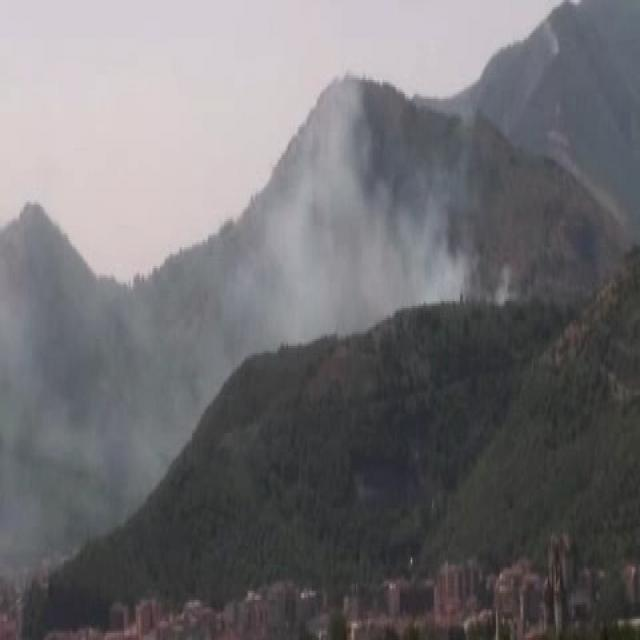smoke: (229, 97, 467, 322), (9, 304, 155, 504)
